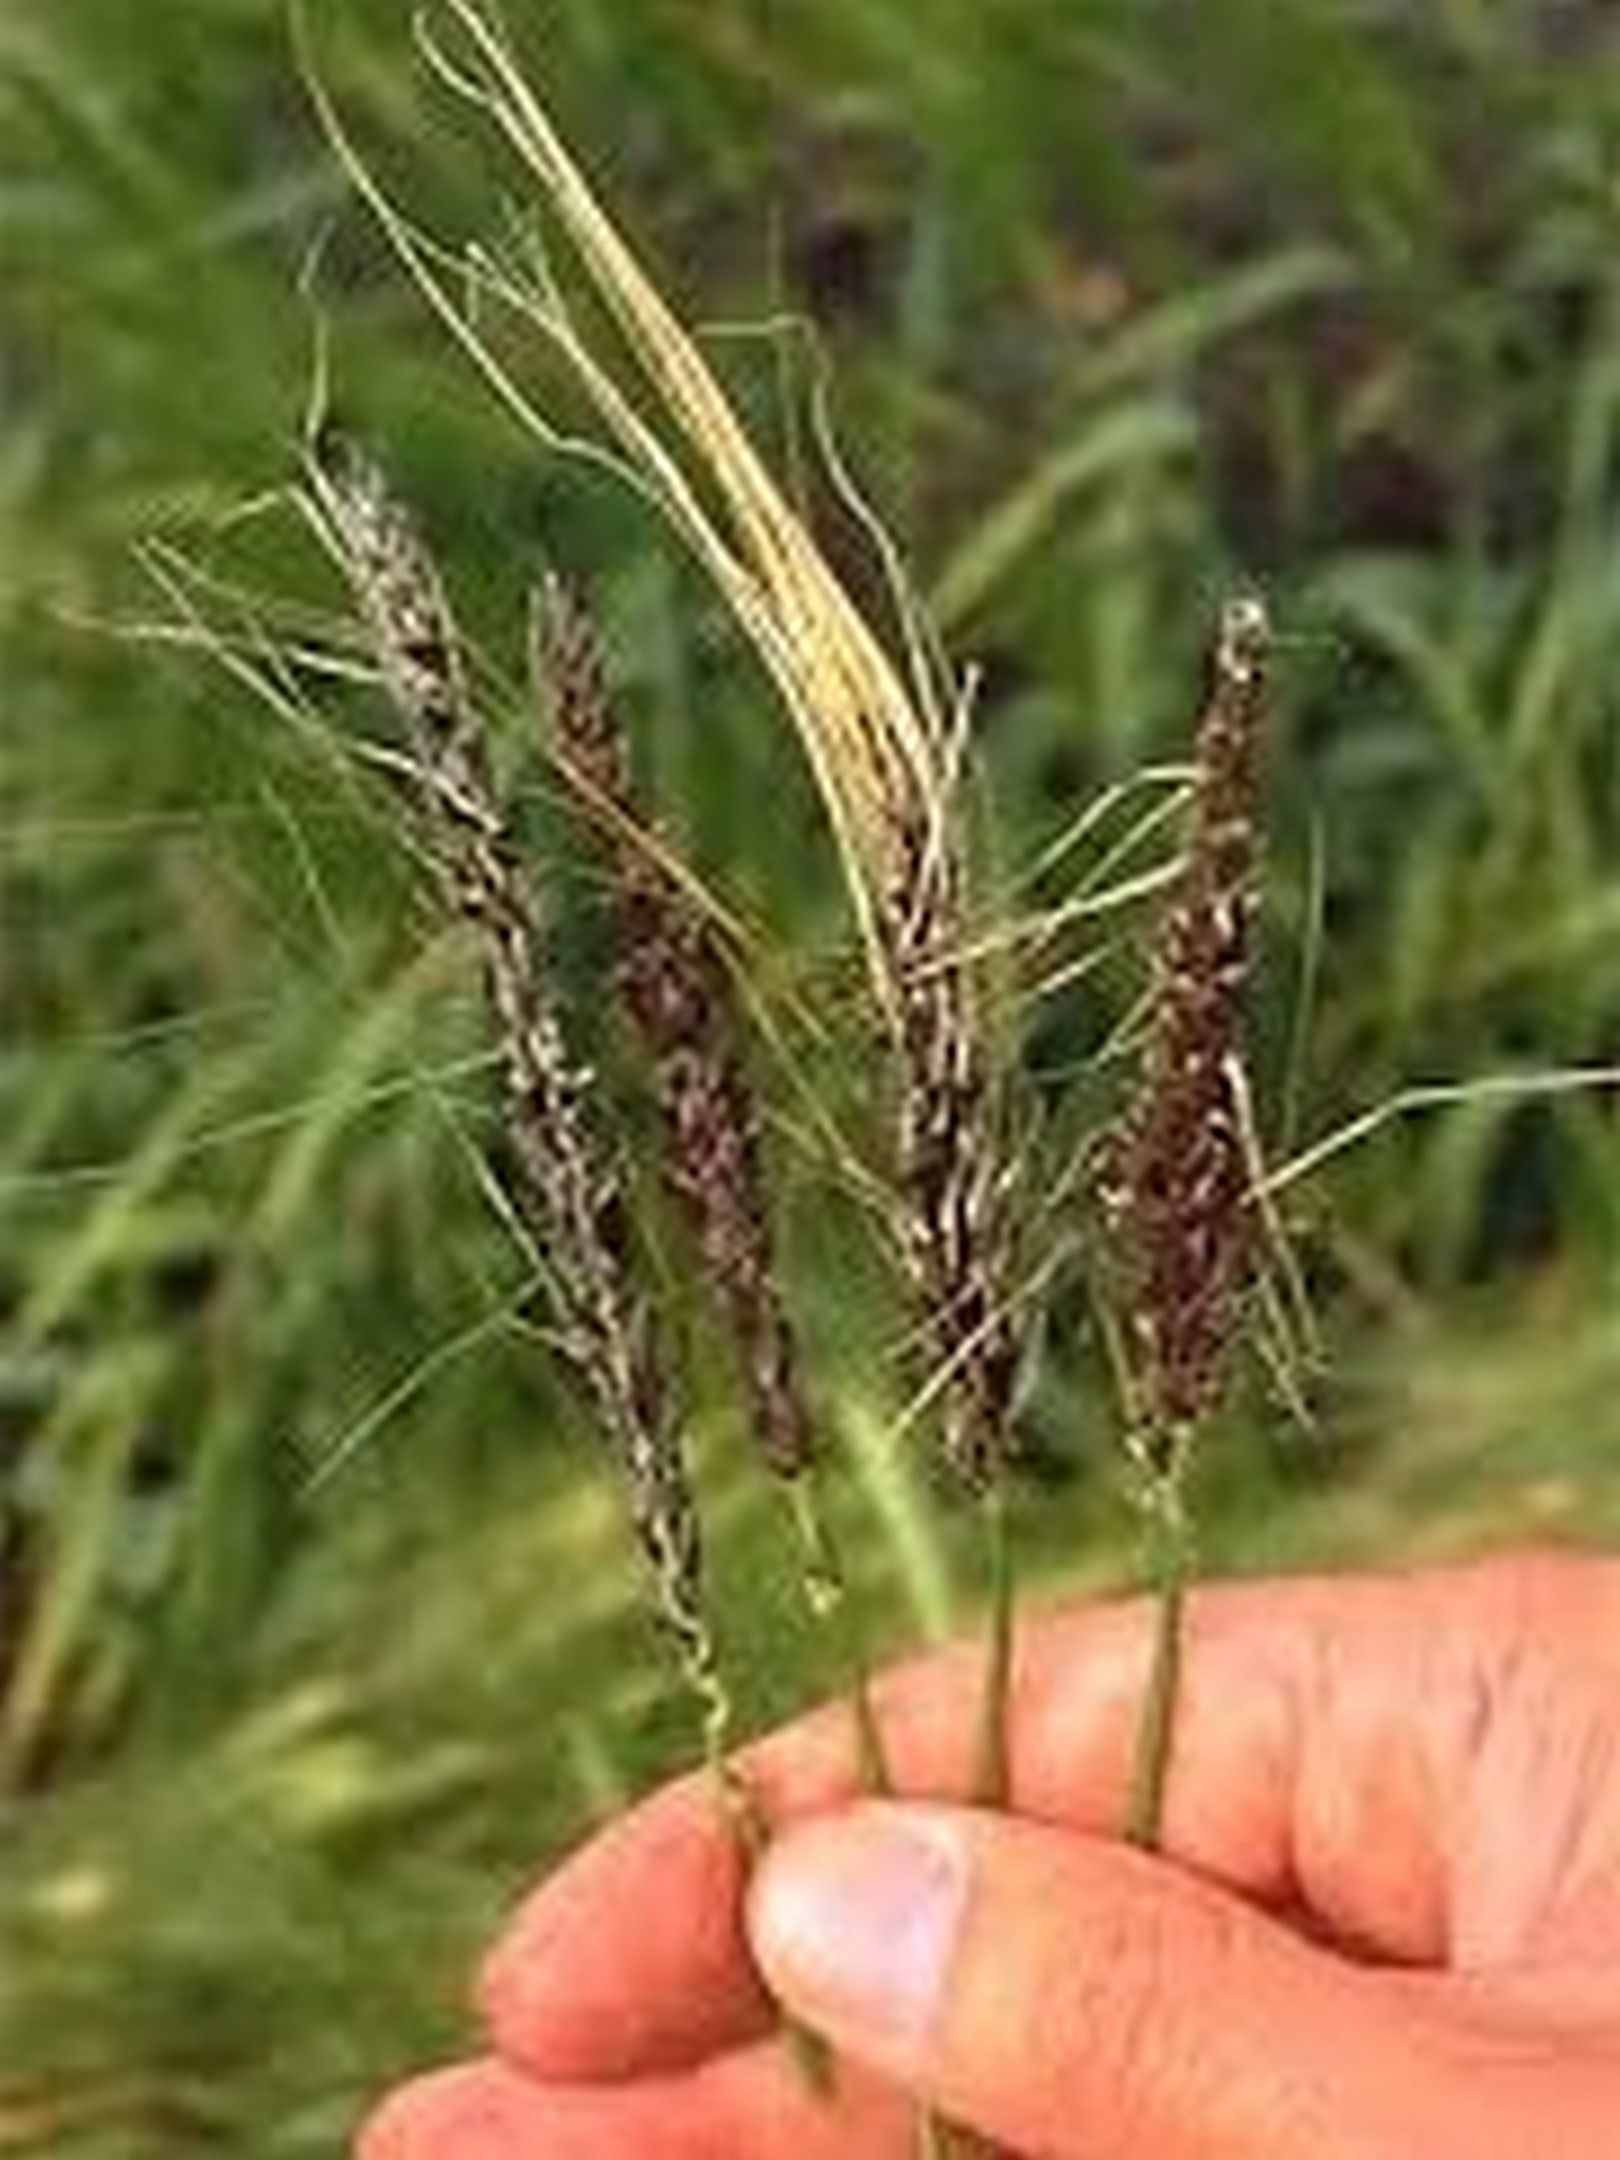Wheat Loose Smut: (306, 498, 1385, 1512)
